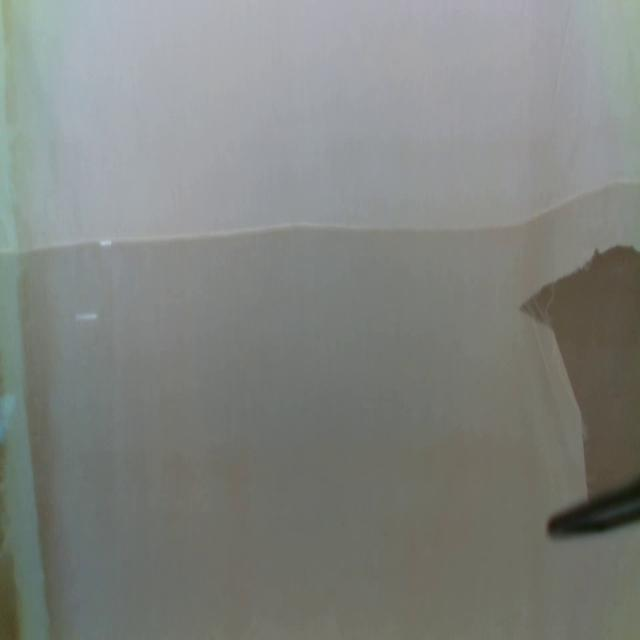color bleeding: (0, 4, 61, 637)
hole: (517, 238, 640, 482)
